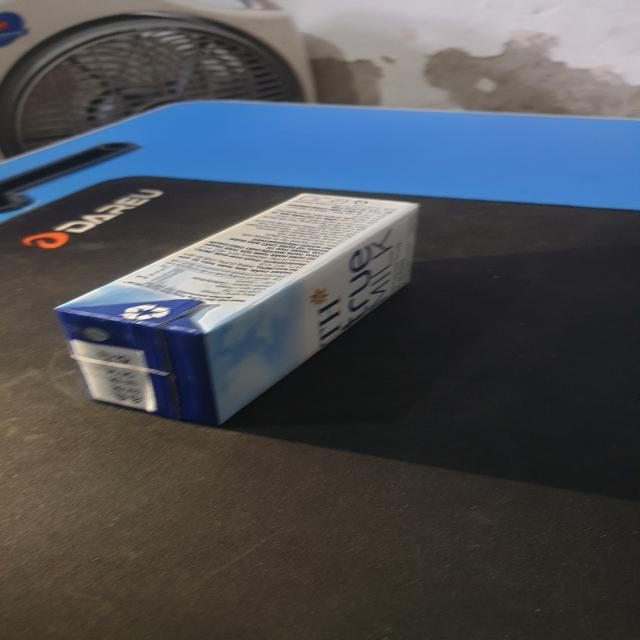TH: (52, 193, 425, 429)
